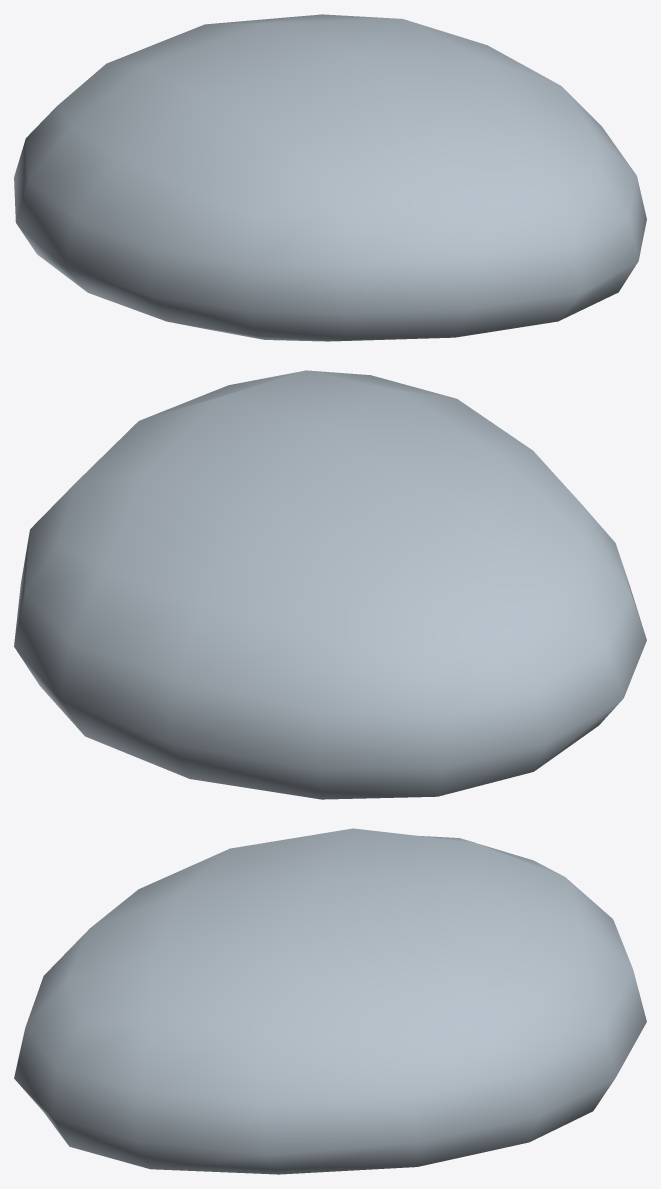
Rendered from itch_assetquest_pond_pebble_2b.glb.
The picture shows the model from 3 angles, top to bottom: view 1: azimuth 30°, elevation 25°; view 2: azimuth 150°, elevation 25°; view 3: azimuth 270°, elevation 25°; orthographic projection. The views are drawn at different scales.
Visible parts, largest first — view 1: Pebble_2b; view 2: Pebble_2b; view 3: Pebble_2b.
Boxes of the visible parts, x1,y1,x2,y2 form: Pebble_2b: (14, 14, 646, 341); Pebble_2b: (14, 370, 646, 799); Pebble_2b: (14, 828, 646, 1174).
Size of the model in its own units: 0.4076 by 0.1705 by 0.42.
